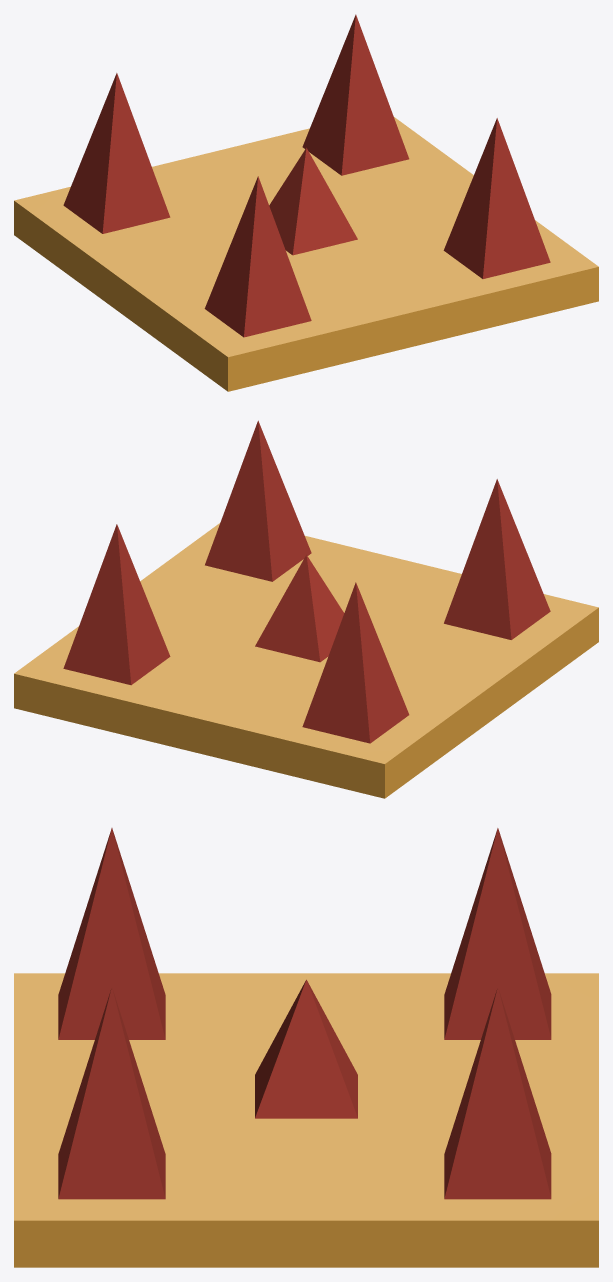
Rendered from bay chong a.fbx.
3 renders of one model, top to bottom at view 1: azimuth 30°, elevation 25°; view 2: azimuth 150°, elevation 25°; view 3: azimuth 270°, elevation 25°, orthographic. The views are drawn at different scales.
Parts seen in each view (by area): view 1: bay_chong_a; view 2: bay_chong_a; view 3: bay_chong_a.
Part boxes in pixels (<box>): bay_chong_a: <box>14,14,598,391</box>; bay_chong_a: <box>14,420,598,798</box>; bay_chong_a: <box>14,828,598,1267</box>.
Bounding box in the file's own units: 50.43 × 22.57 × 50.43.
